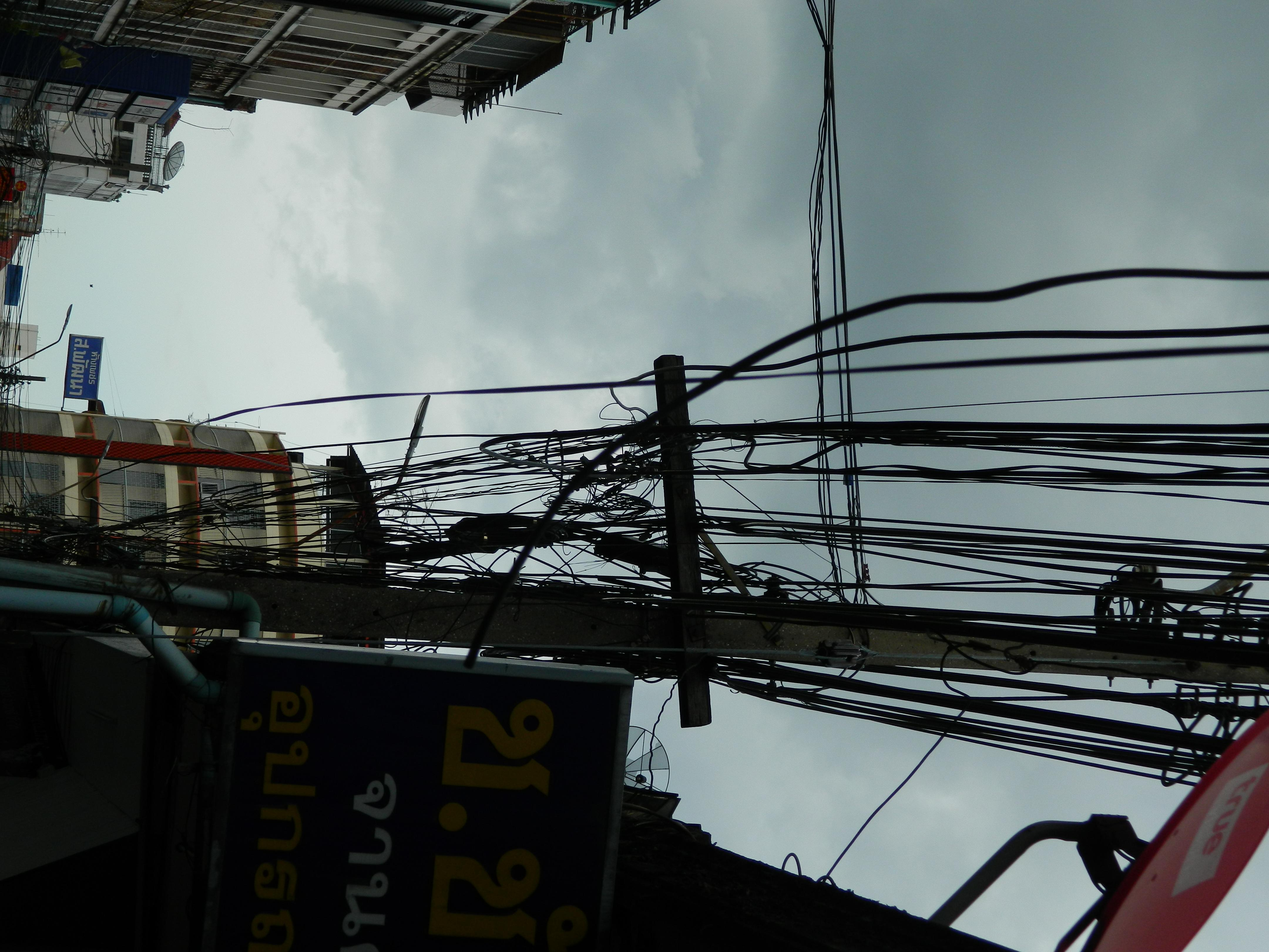wires: (362, 0, 796, 740)
